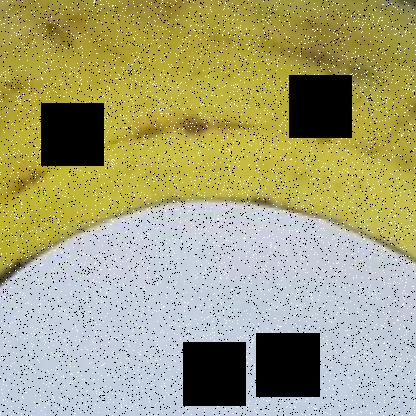ripe: (0, 1, 415, 321)
